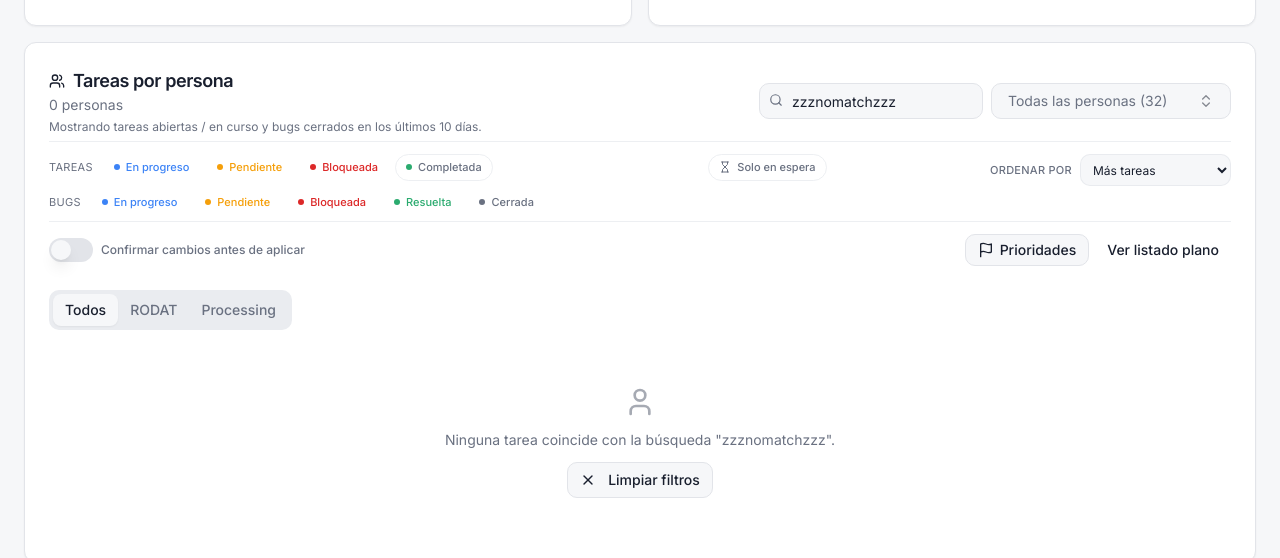
Test: Tasks page — empty state messaging in 'Tareas por persona' › clicking 'Limpiar filtros' also clears the search input value
The width and height of the screenshot is (1280, 558).
(page scrolled)
Check: the field with placeholder "Buscar tarea..." holds "zzznomatchzzz", box left=759, top=83, right=983, bottom=119
Click the button "Limpiar filtros". click: (640, 480)
box: left=567, top=462, right=713, bottom=498
(page scrolled)
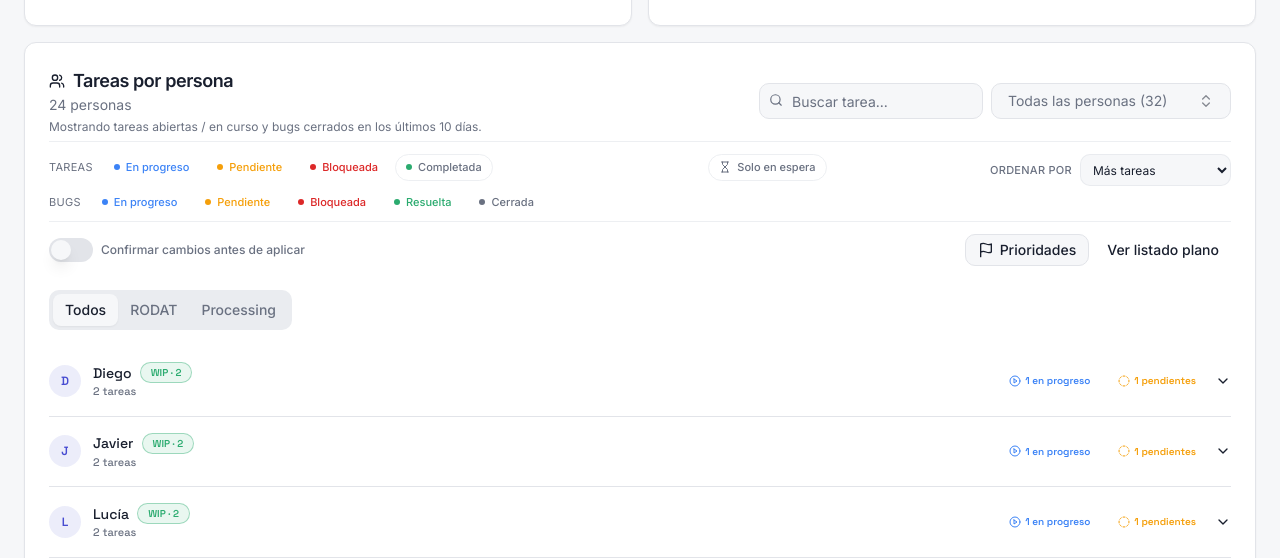
Check: the field with placeholder "Buscar tarea..." is empty, box left=759, top=83, right=983, bottom=119
